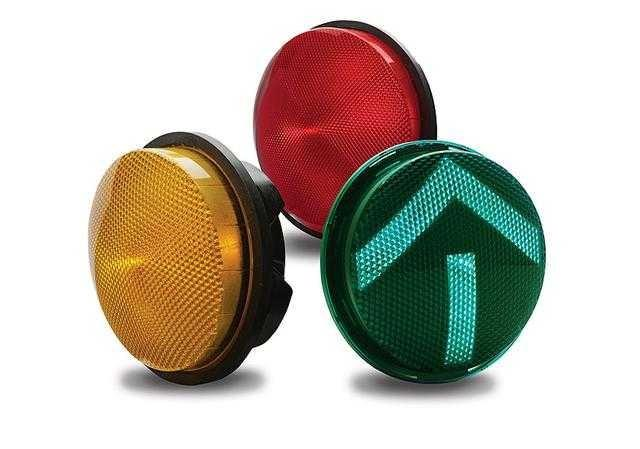green: (324, 140, 546, 388)
